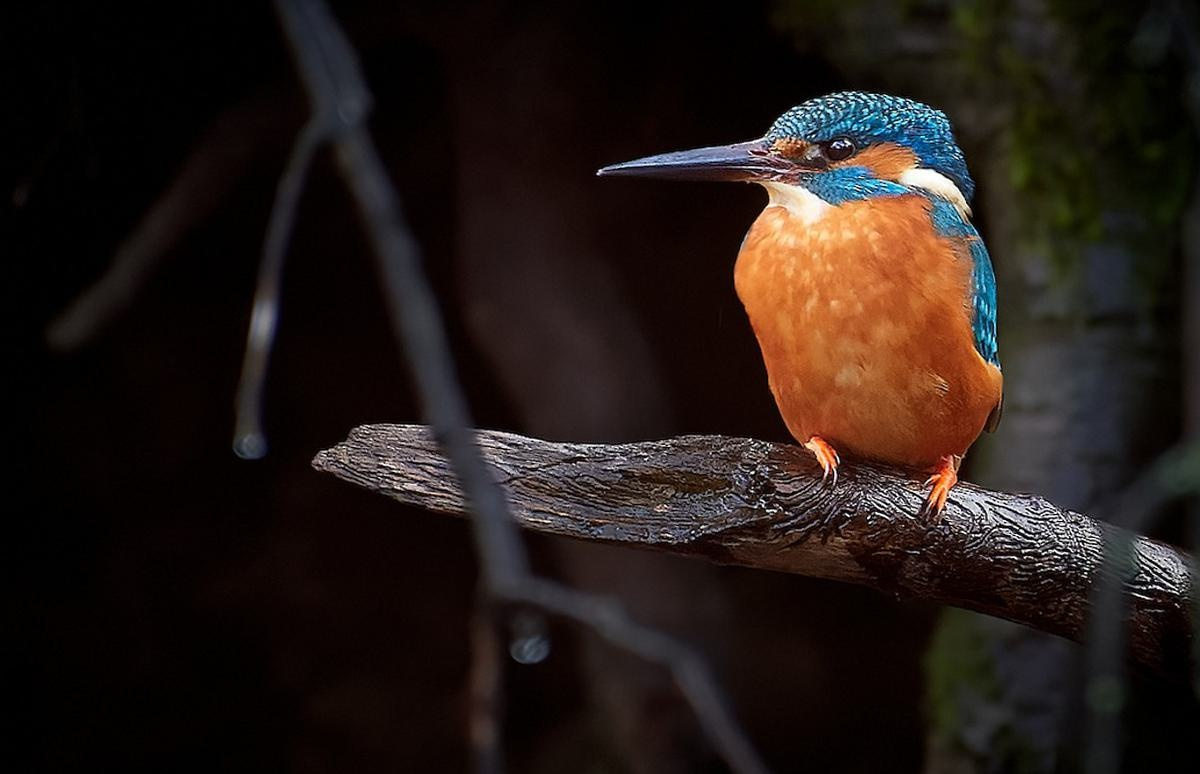kingfisher: (599, 50, 1031, 522)
